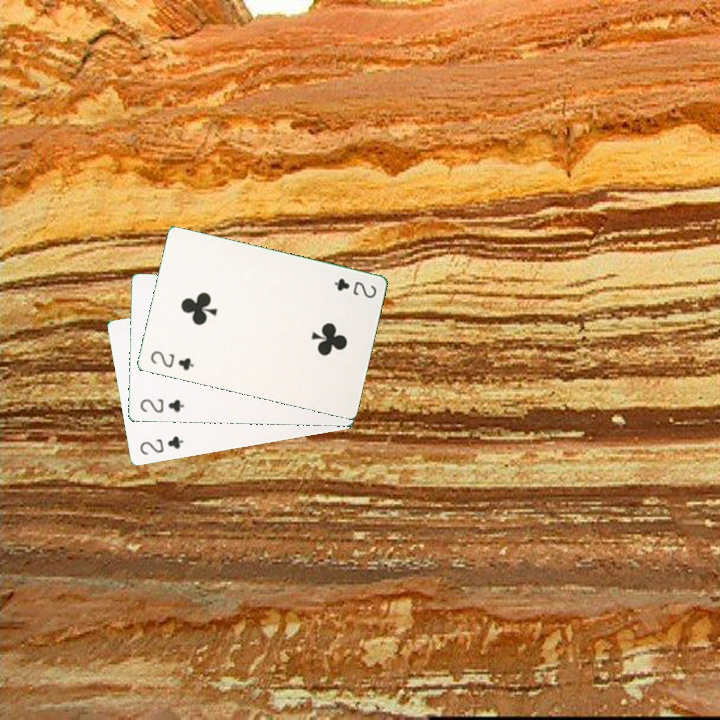2c: (146, 346, 197, 374), (330, 274, 379, 301), (136, 432, 186, 457), (136, 395, 187, 415)
